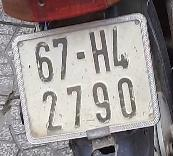0: (111, 72, 149, 127)
2: (38, 84, 66, 141)
4: (108, 22, 132, 76)
6: (30, 38, 56, 88)
7: (50, 33, 75, 87), (65, 81, 87, 135)
9: (88, 76, 119, 134)
H: (86, 27, 115, 83)
